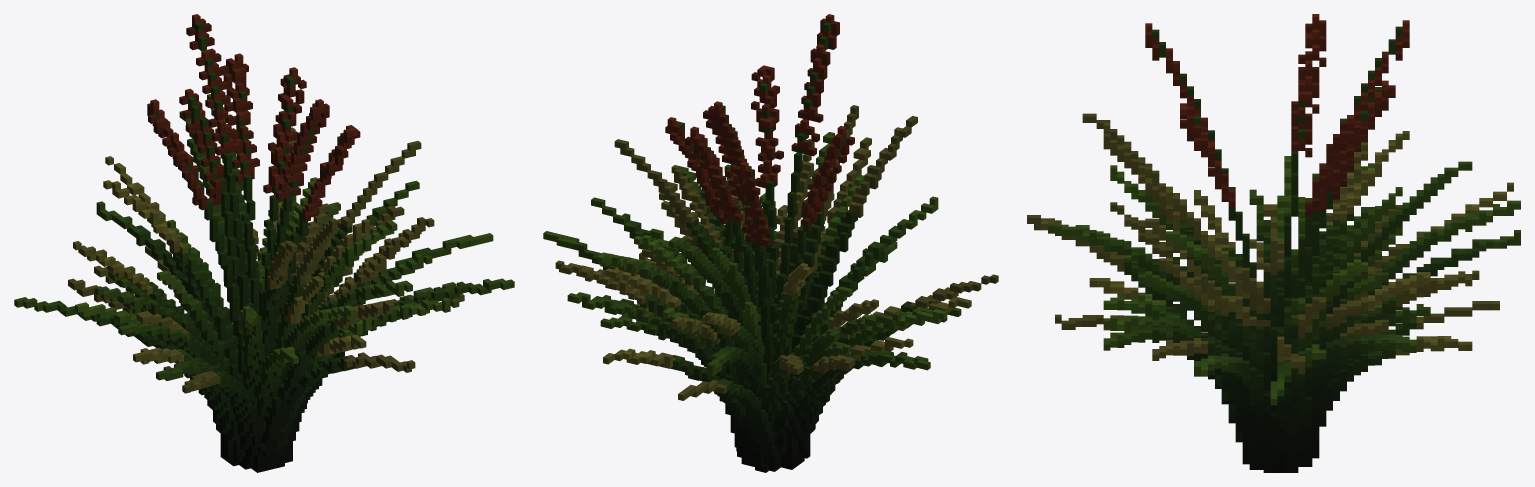
File: capim_alto_estilizado_01_LOD0.fbx
3 renders of one model, left to right at view 1: azimuth 30°, elevation 25°; view 2: azimuth 150°, elevation 25°; view 3: azimuth 270°, elevation 25°, orthographic. The views are drawn at different scales.
Parts seen in each view (by area): view 1: capim_alto_estilizado_01_LOD0; view 2: capim_alto_estilizado_01_LOD0; view 3: capim_alto_estilizado_01_LOD0.
Boxes of the visible parts, x1,y1,x2,y2 form: capim_alto_estilizado_01_LOD0: (14, 14, 514, 472); capim_alto_estilizado_01_LOD0: (543, 14, 998, 472); capim_alto_estilizado_01_LOD0: (1027, 14, 1520, 472).
Size of the model in its own units: 156 by 138 by 142.
